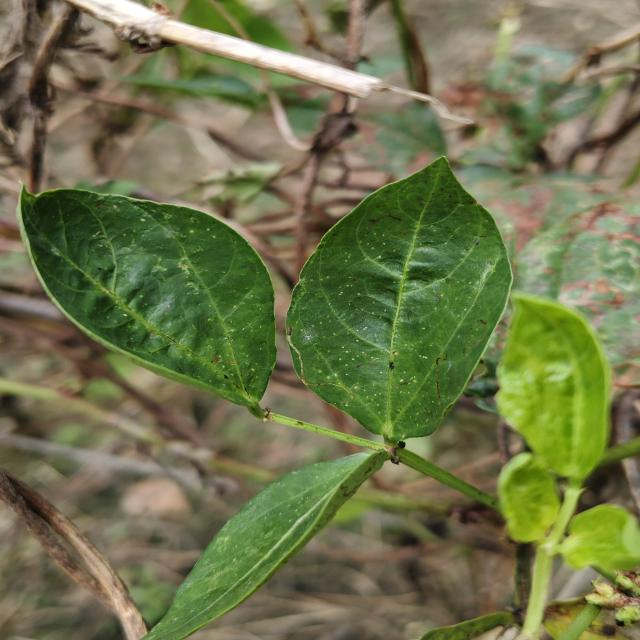sitaw-aphid-high: (286, 157, 512, 447), (17, 185, 277, 419)
